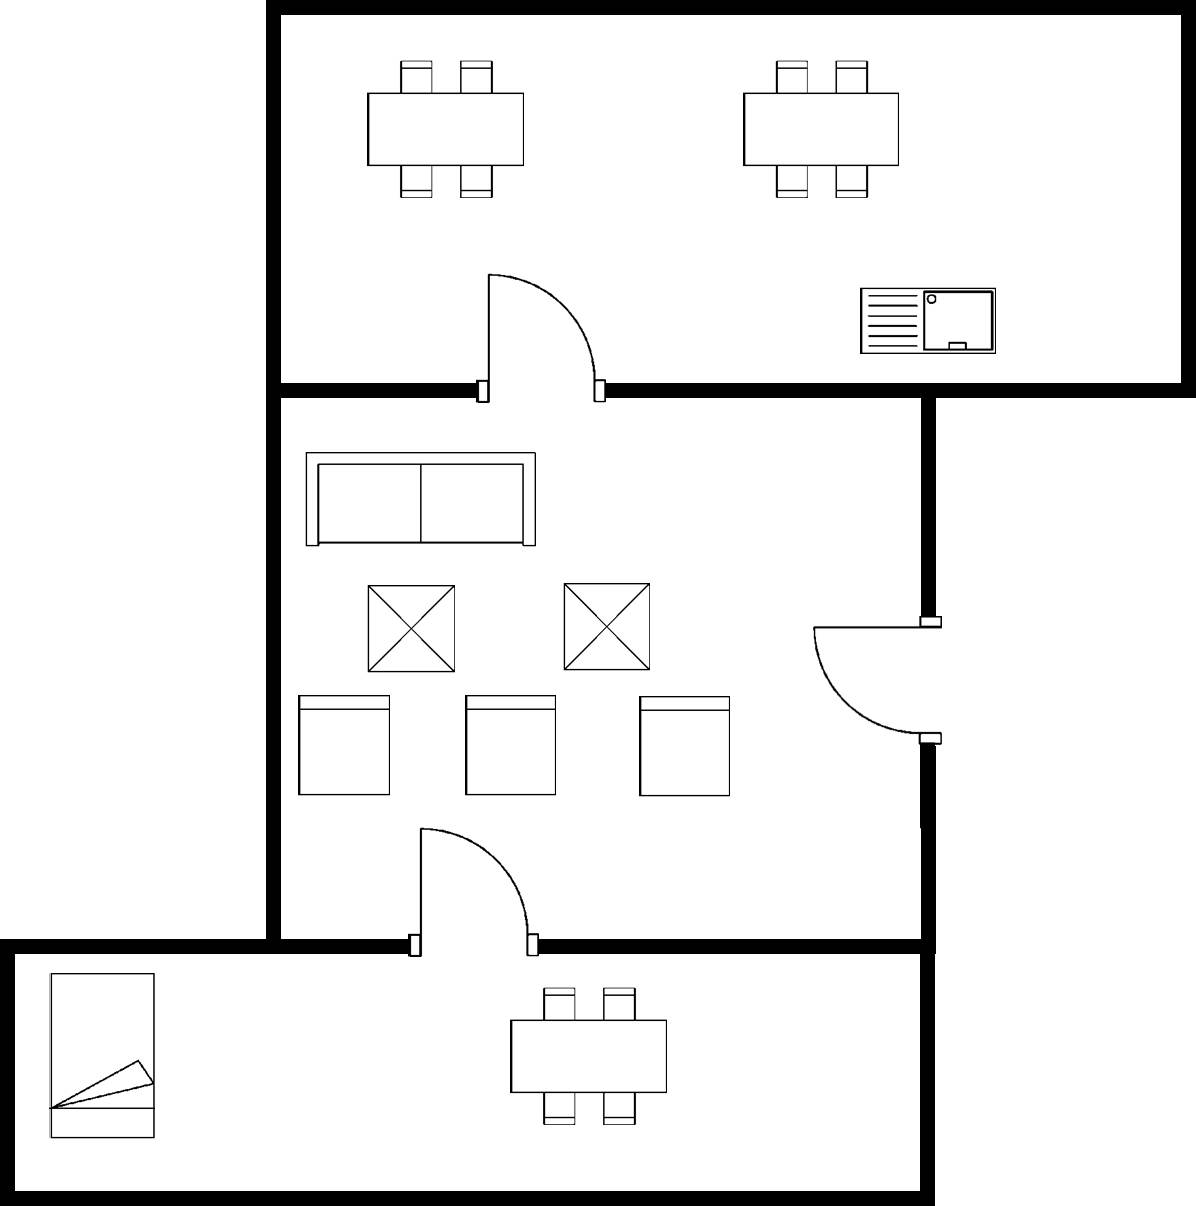coffee_table: (360, 576, 462, 681), (558, 575, 659, 677)
dining_table: (732, 50, 913, 204), (500, 983, 677, 1135), (361, 53, 533, 208)
large_sofa: (294, 442, 547, 557)
sink: (851, 279, 1001, 361)
small_sofa: (41, 963, 164, 1147), (628, 686, 740, 804), (457, 688, 564, 806), (292, 683, 398, 802)
